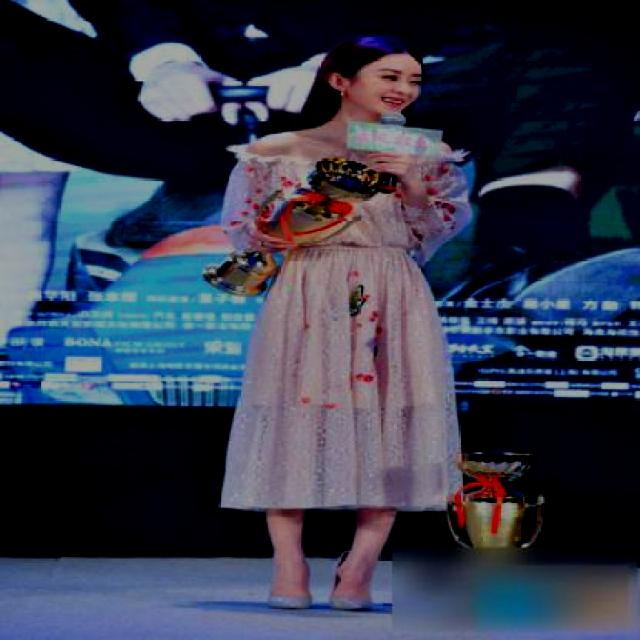Person: (186, 8, 486, 640)
